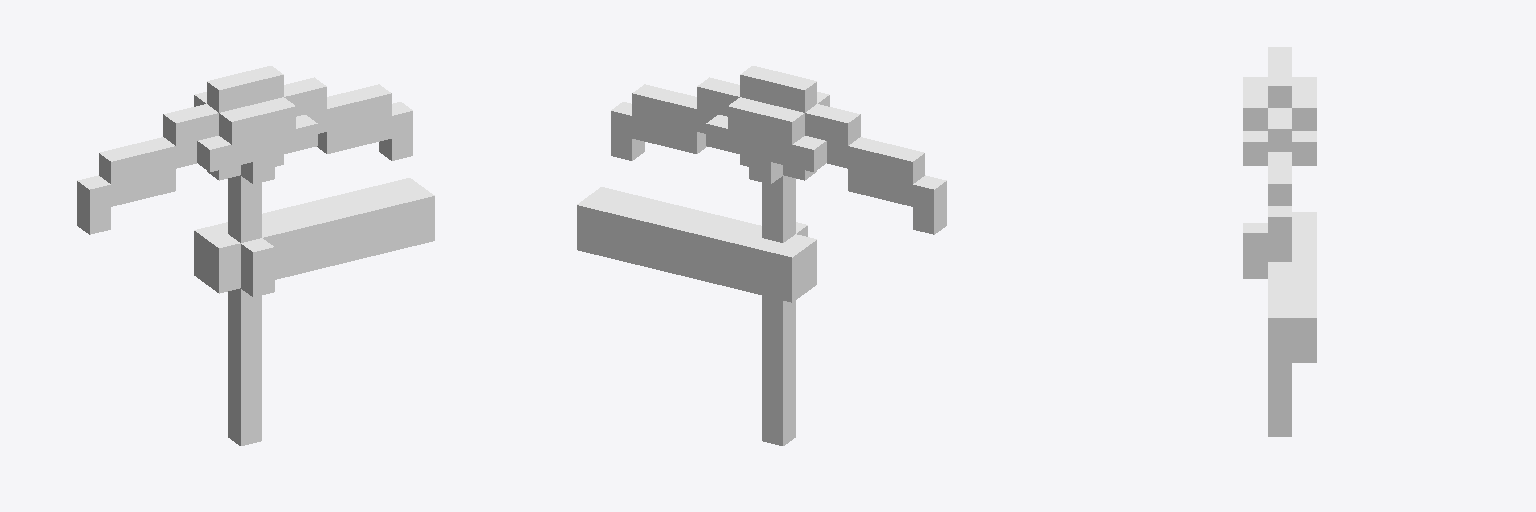
Rendered from armf.obj.
The picture shows the model from 3 angles: view 1: azimuth 30°, elevation 25°; view 2: azimuth 150°, elevation 25°; view 3: azimuth 270°, elevation 25°; orthographic projection.
Parts seen in each view (by area): view 1: object 1; view 2: object 1; view 3: object 1.
Boxes of the visible parts, x1=… form: object 1: x1=77, y1=66, x2=434, y2=445; object 1: x1=577, y1=66, x2=946, y2=445; object 1: x1=1243, y1=47, x2=1316, y2=436.
Size of the model in its own units: 1.6 by 1.6 by 0.3.